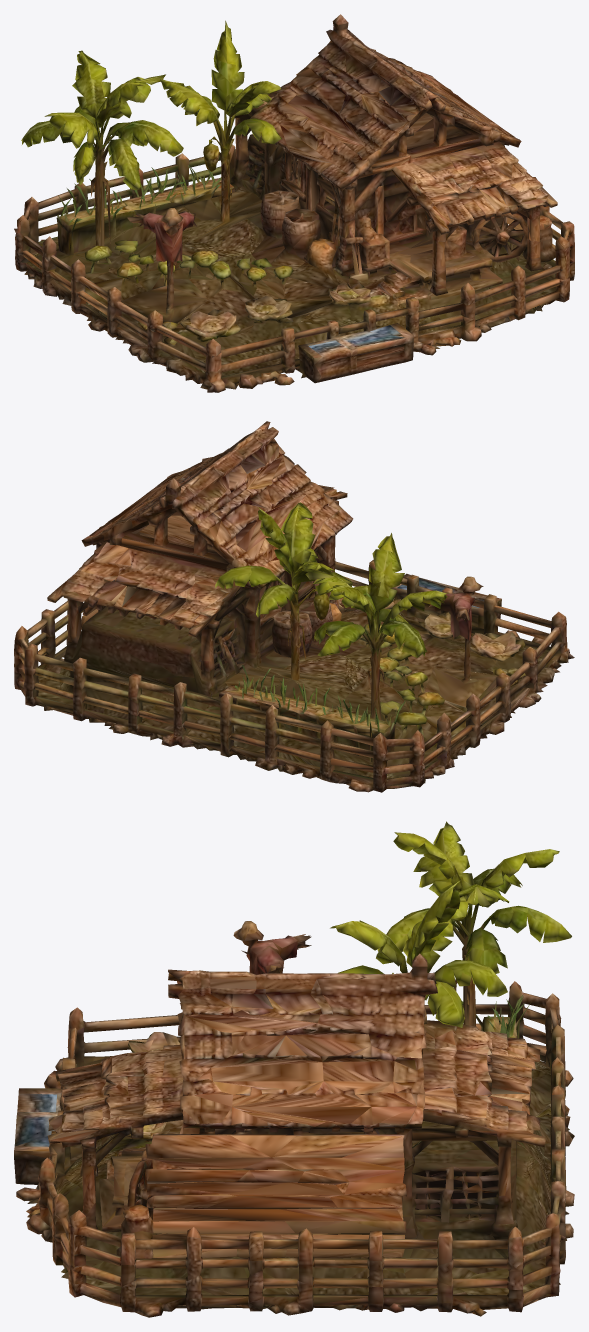
3 views of the same model, one above another, from view 1: azimuth 30°, elevation 25°; view 2: azimuth 150°, elevation 25°; view 3: azimuth 270°, elevation 25° (orthographic). The views are drawn at different scales.
Visible parts, largest first — view 1: tripo_node_5e62afe7-9b0d-4c03-9594-d3d8fced8647; view 2: tripo_node_5e62afe7-9b0d-4c03-9594-d3d8fced8647; view 3: tripo_node_5e62afe7-9b0d-4c03-9594-d3d8fced8647.
Boxes of the visible parts, box(x1,y1,x2,y2) form: tripo_node_5e62afe7-9b0d-4c03-9594-d3d8fced8647: box(14, 14, 574, 392); tripo_node_5e62afe7-9b0d-4c03-9594-d3d8fced8647: box(14, 421, 574, 792); tripo_node_5e62afe7-9b0d-4c03-9594-d3d8fced8647: box(14, 821, 574, 1317).
Size of the model in its own units: 0.9815 by 0.5004 by 0.8639.
Materials: 1 (1 with a texture image).
